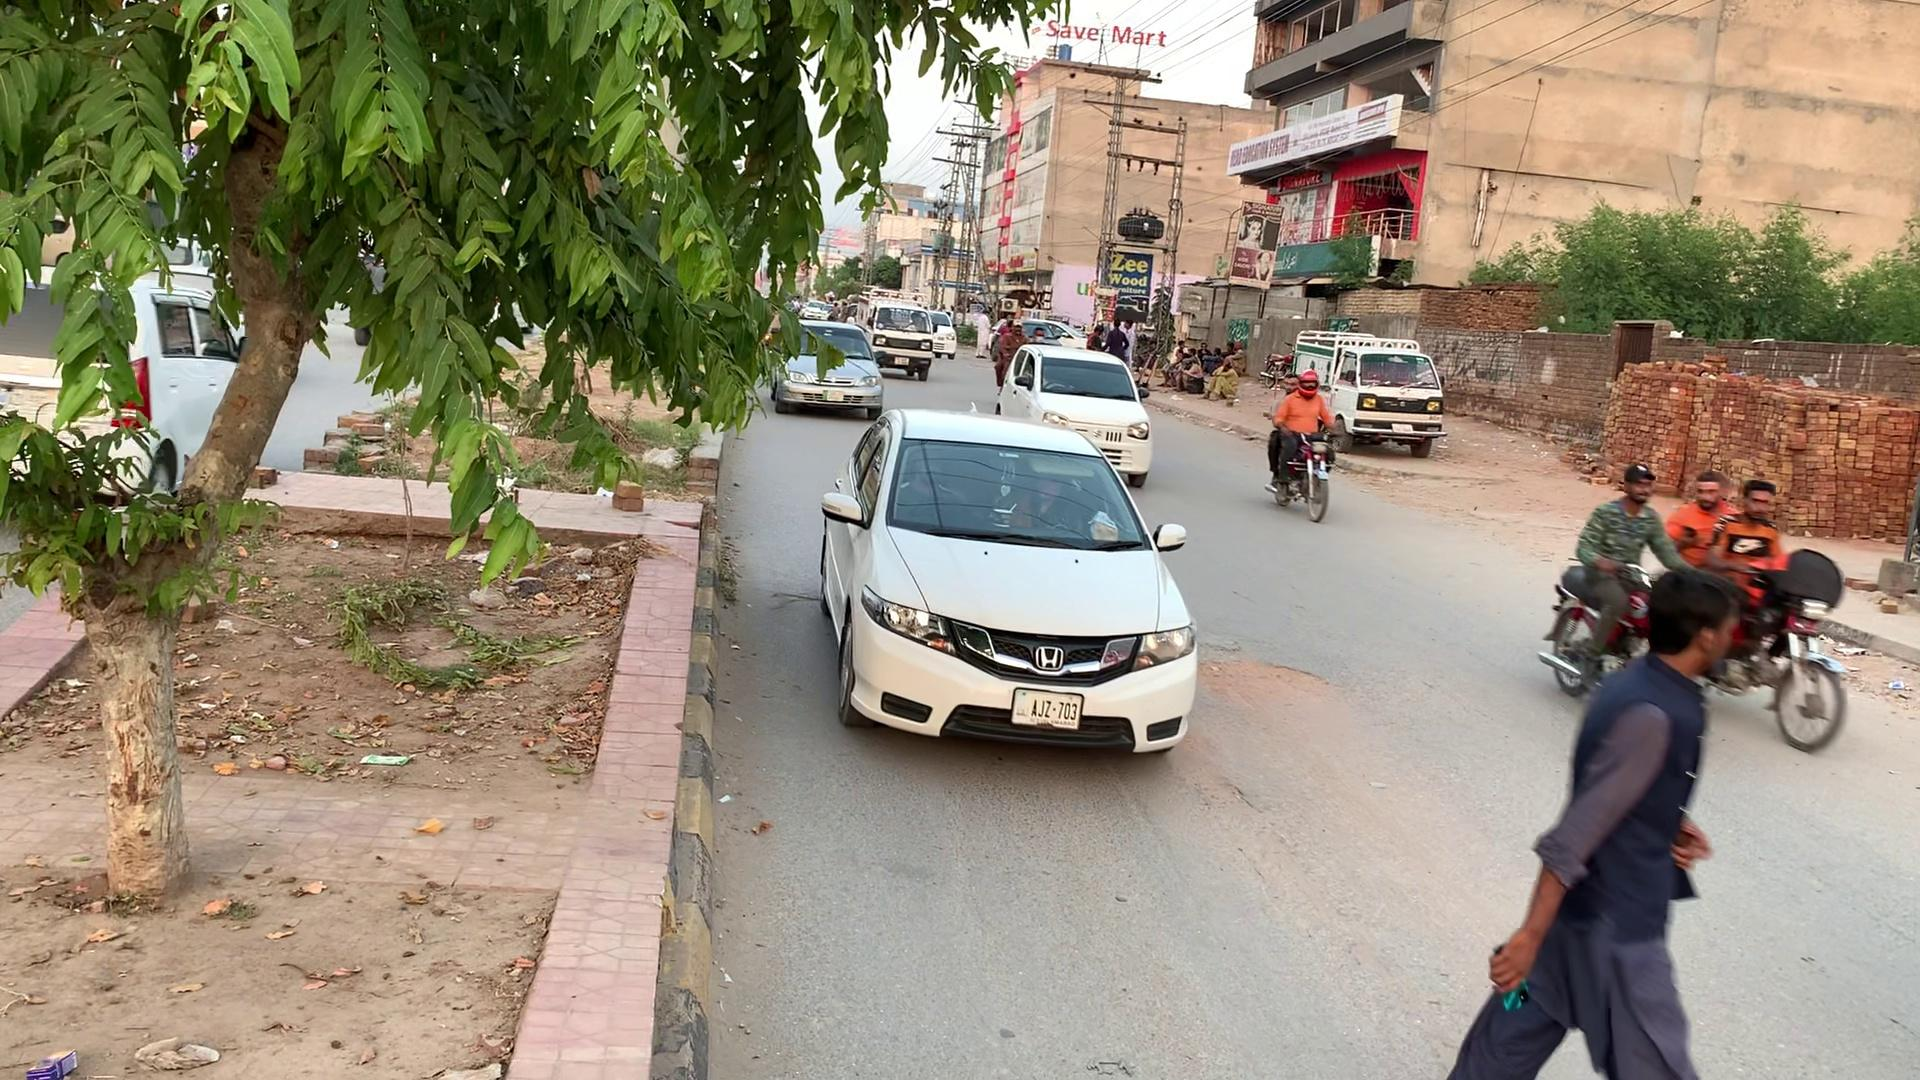windshield: (881, 430, 1150, 563)
